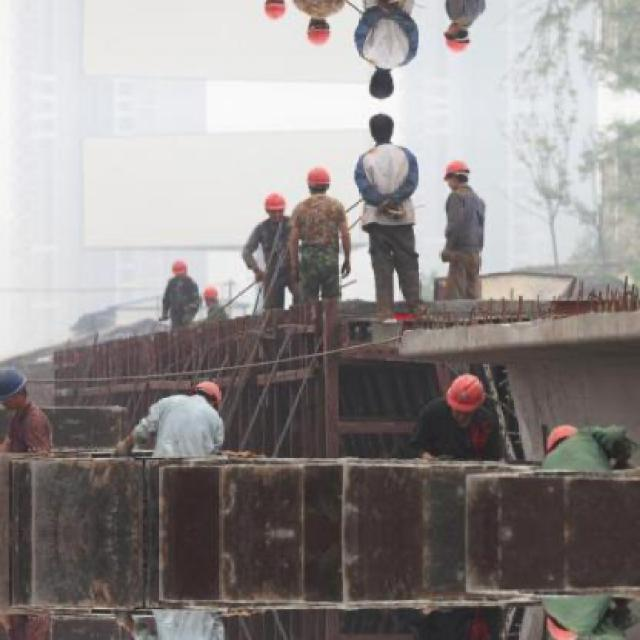con casco: (441, 349, 505, 452), (243, 167, 303, 234), (294, 146, 356, 208), (434, 149, 489, 203), (153, 248, 214, 286)
